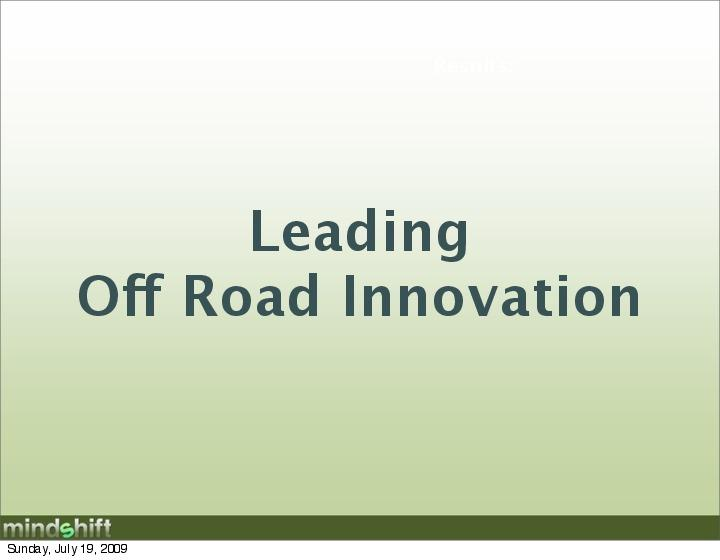title: (67, 188, 673, 347)
